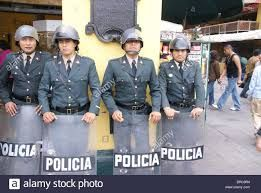uniform: (42, 57, 97, 158), (104, 56, 156, 155), (6, 50, 43, 160), (160, 59, 203, 151)
